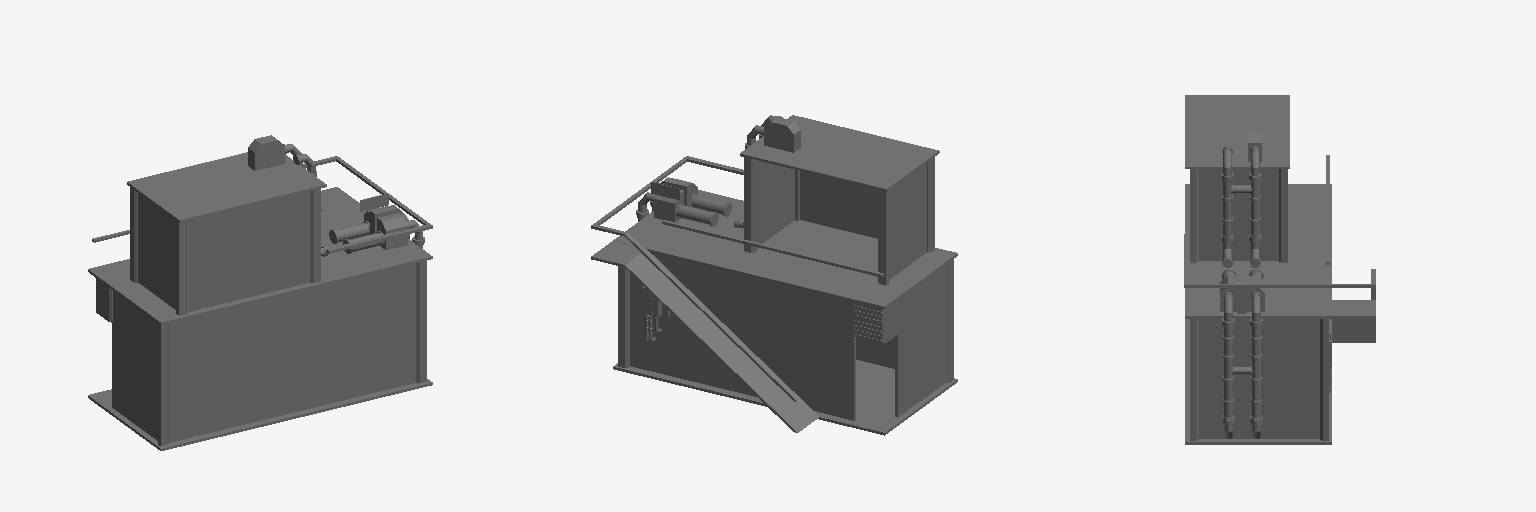
File: Slum_house_05.obj
The picture shows the model from 3 angles: view 1: azimuth 30°, elevation 25°; view 2: azimuth 150°, elevation 25°; view 3: azimuth 270°, elevation 25°; orthographic projection.
Parts seen in each view (by area): view 1: Slum_house_05; view 2: Slum_house_05; view 3: Slum_house_05.
Part boxes in pixels (bbox=[...]): Slum_house_05: bbox=[88, 135, 432, 450]; Slum_house_05: bbox=[591, 115, 957, 435]; Slum_house_05: bbox=[1184, 95, 1375, 444].
Bounding box in the file's own units: 990 × 835 × 575.